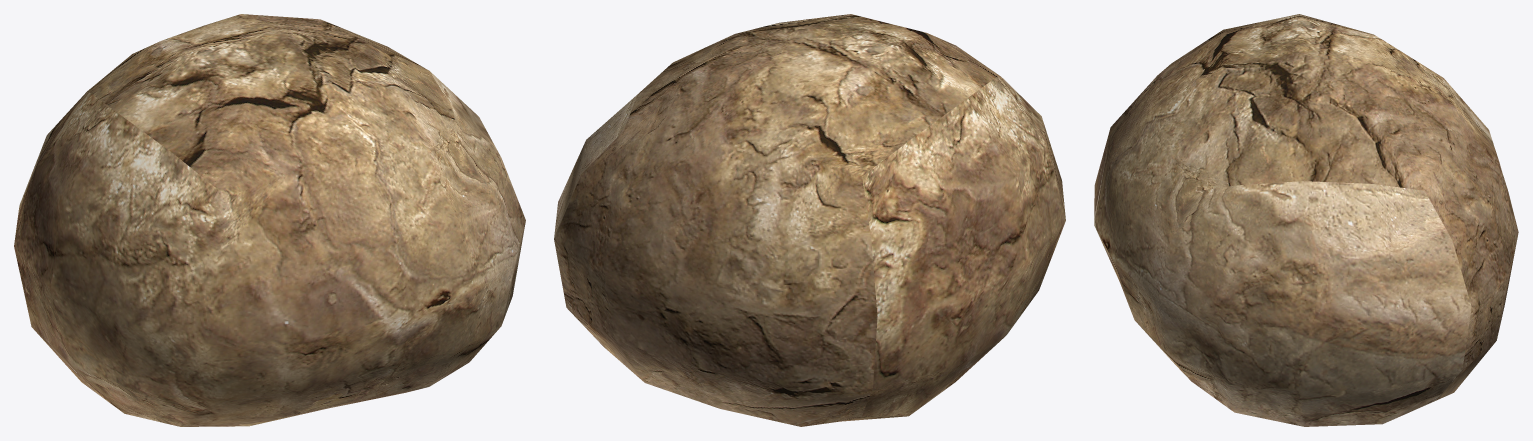
File: smoothRock1.obj
3 renders of one model, left to right at view 1: azimuth 30°, elevation 25°; view 2: azimuth 150°, elevation 25°; view 3: azimuth 270°, elevation 25°, orthographic. The views are drawn at different scales.
Parts seen in each view (by area): view 1: pCube1; view 2: pCube1; view 3: pCube1.
Boxes of the visible parts, x1,y1,x2,y2 form: pCube1: [14, 14, 525, 426]; pCube1: [554, 14, 1065, 426]; pCube1: [1094, 14, 1518, 426].
Size of the model in its own units: 7.56 by 5.86 by 6.93.
Materials: 1 (1 with a texture image).
